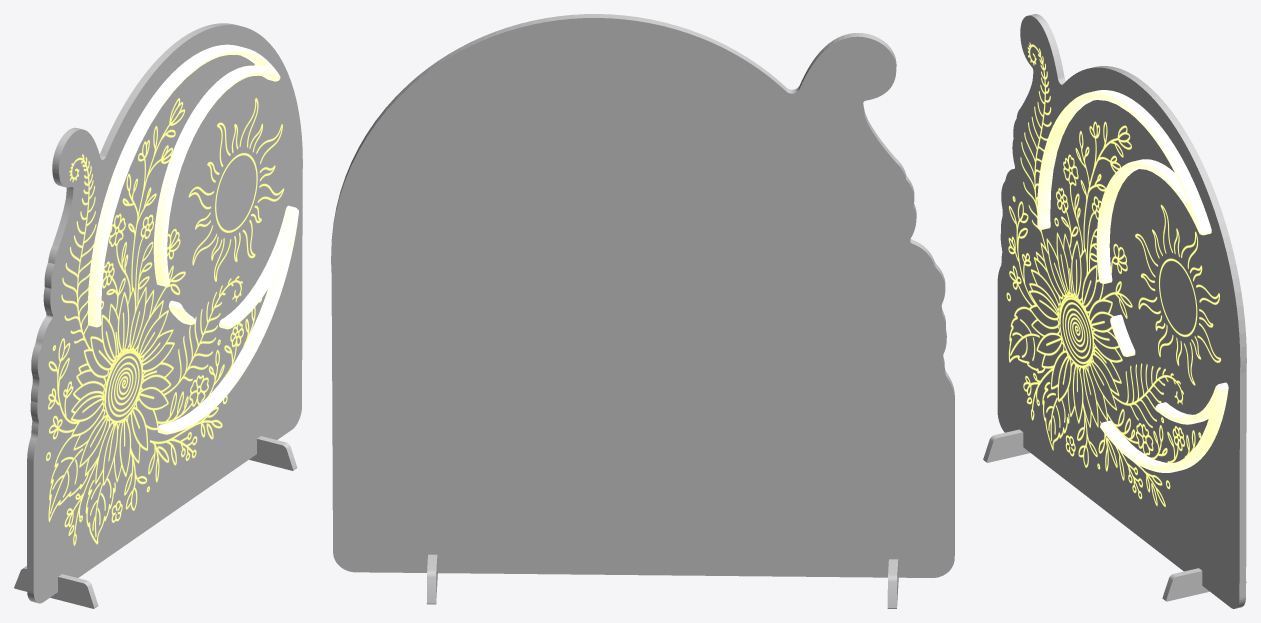
The model's file is TRY 4_ МІСЯЦЬ . Untitled.glb.
The picture shows the model from 3 angles, left to right: view 1: azimuth 30°, elevation 25°; view 2: azimuth 150°, elevation 25°; view 3: azimuth 270°, elevation 25°; orthographic projection. The views are drawn at different scales.
Parts seen in each view (by area): view 1: Curve, Ресурс 1, Curve.003, Curve.159; view 2: Curve, Curve.159; view 3: Curve, Ресурс 1, Curve.003, Curve.159.
Part boxes in pixels (box(x1,y1,x2,y2)): Curve: box(27, 23, 302, 603); Ресурс 1: box(46, 98, 284, 545); Curve.003: box(88, 44, 298, 434); Curve.159: box(14, 436, 297, 608); Curve: box(331, 14, 954, 577); Curve.159: box(426, 554, 898, 608); Curve: box(997, 14, 1246, 608); Ресурс 1: box(1006, 42, 1221, 506); Curve.003: box(1037, 90, 1228, 472); Curve.159: box(983, 429, 1246, 601).
Bounding box in the file's own units: 0.2963 × 0.3354 × 0.1745.
3 materials, 1 textured.
